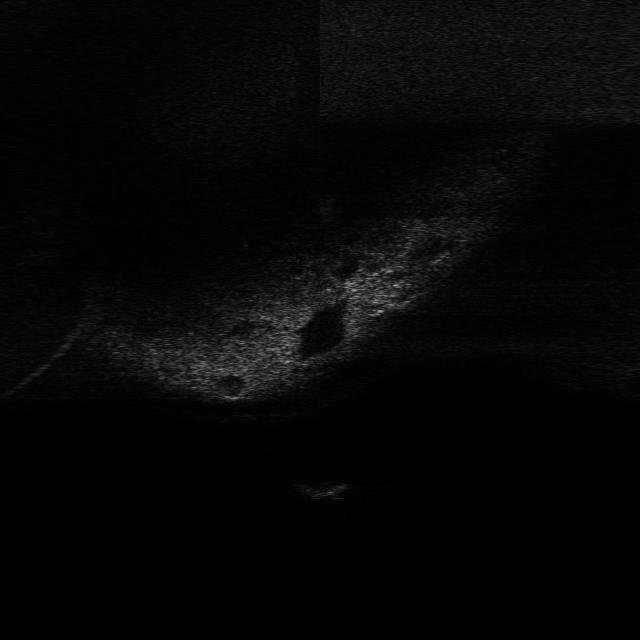cube: (288, 474, 354, 500)
